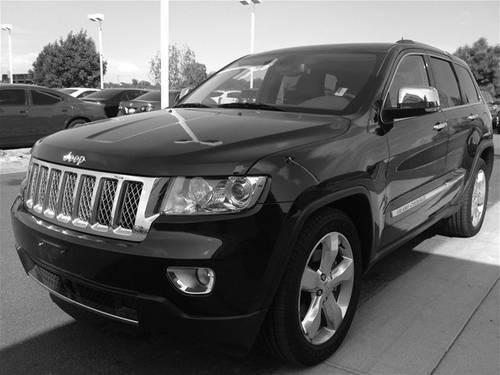car: (13, 42, 497, 366)
